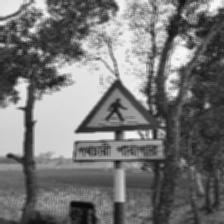Pedestrian-crossing: (74, 78, 165, 163)
